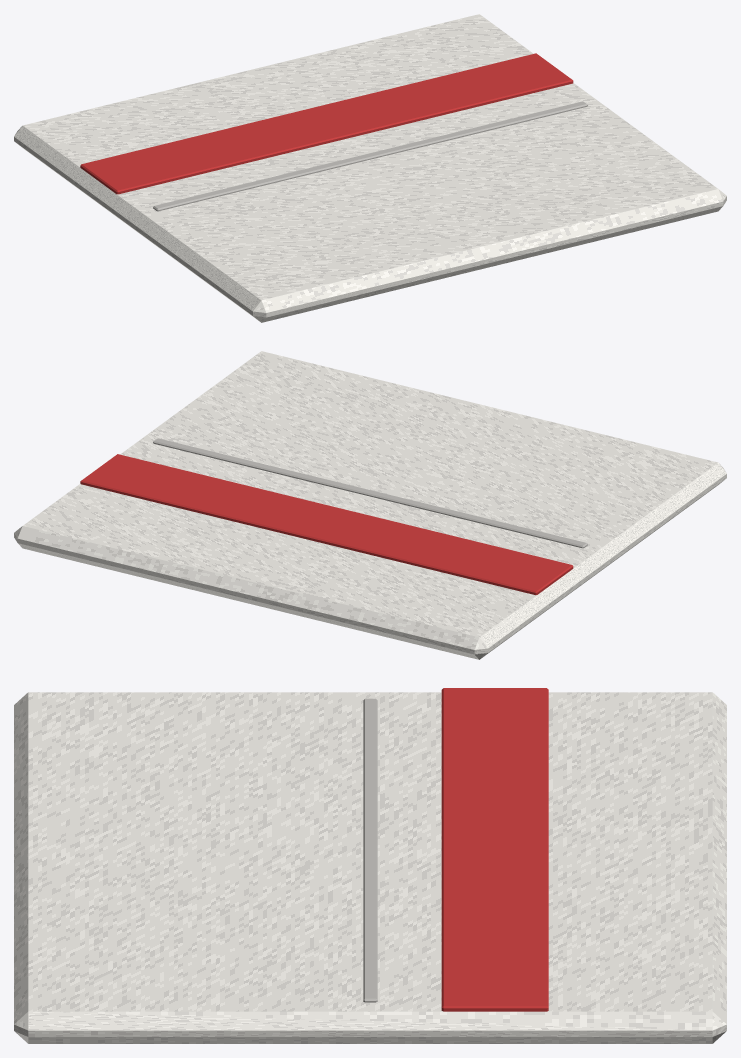
Rendered from dish_towel.glb.
3 renders of one model, top to bottom at view 1: azimuth 30°, elevation 25°; view 2: azimuth 150°, elevation 25°; view 3: azimuth 270°, elevation 25°, orthographic. The views are drawn at different scales.
Parts seen in each view (by area): view 1: block_body, block_stripe, block_fold; view 2: block_body, block_stripe, block_fold; view 3: block_body, block_stripe, block_fold.
Boxes of the visible parts, bbox=[...] form: block_body: bbox=[14, 14, 726, 322]; block_stripe: bbox=[80, 53, 573, 194]; block_fold: bbox=[153, 101, 587, 211]; block_body: bbox=[14, 351, 726, 659]; block_stripe: bbox=[80, 454, 573, 595]; block_fold: bbox=[153, 438, 587, 548]; block_body: bbox=[14, 692, 726, 1043]; block_stripe: bbox=[441, 688, 548, 1011]; block_fold: bbox=[363, 698, 377, 1002].
Bounding box in the file's own units: 0.22 × 0.0115 × 0.2.
1 material, 1 textured.
